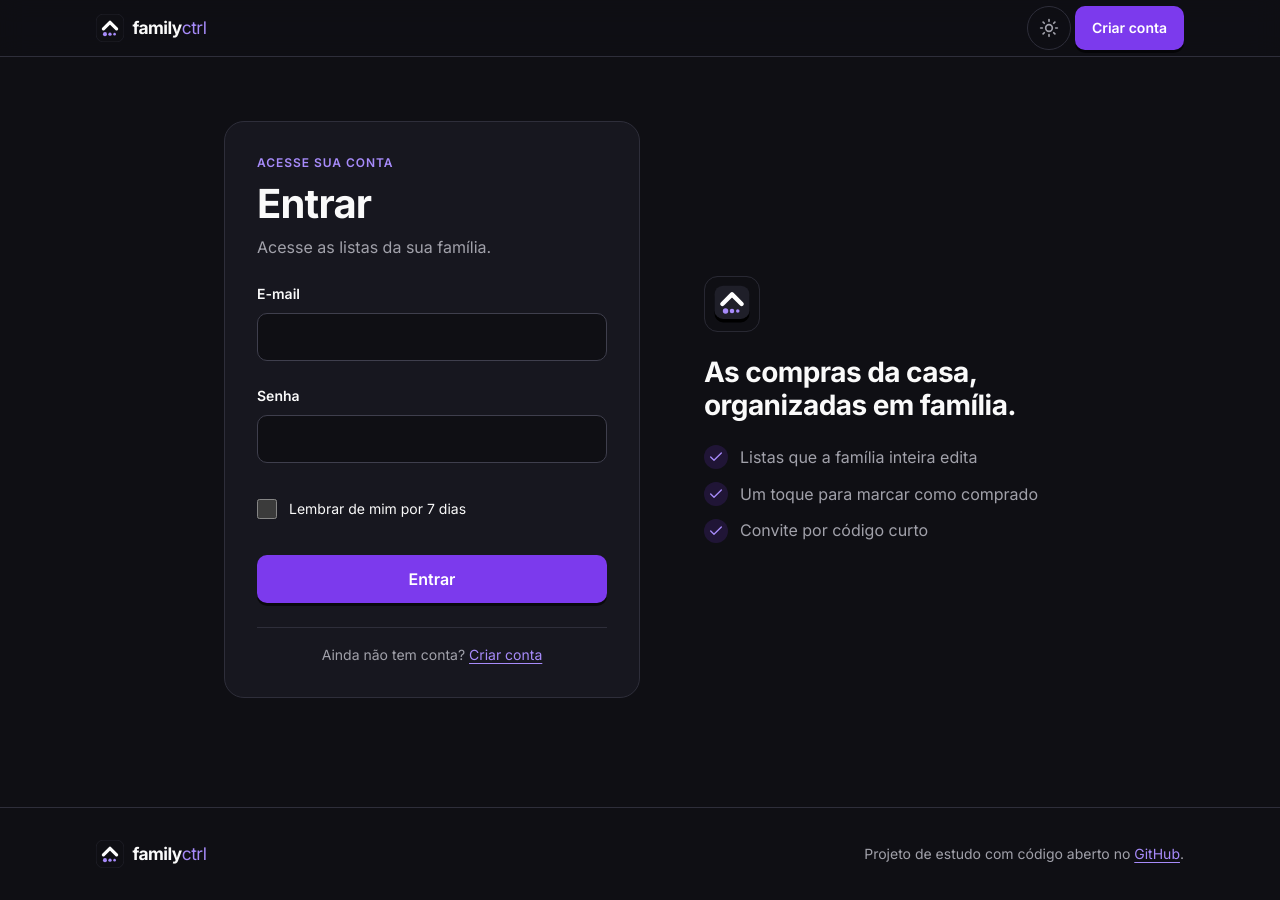
Scenario: login › mostra erro com senha incorreta
This screenshot has width=1280, height=900.
In the field labelled "E-mail": (432, 337) [257,313,607,361], type "ana@exemplo.com"
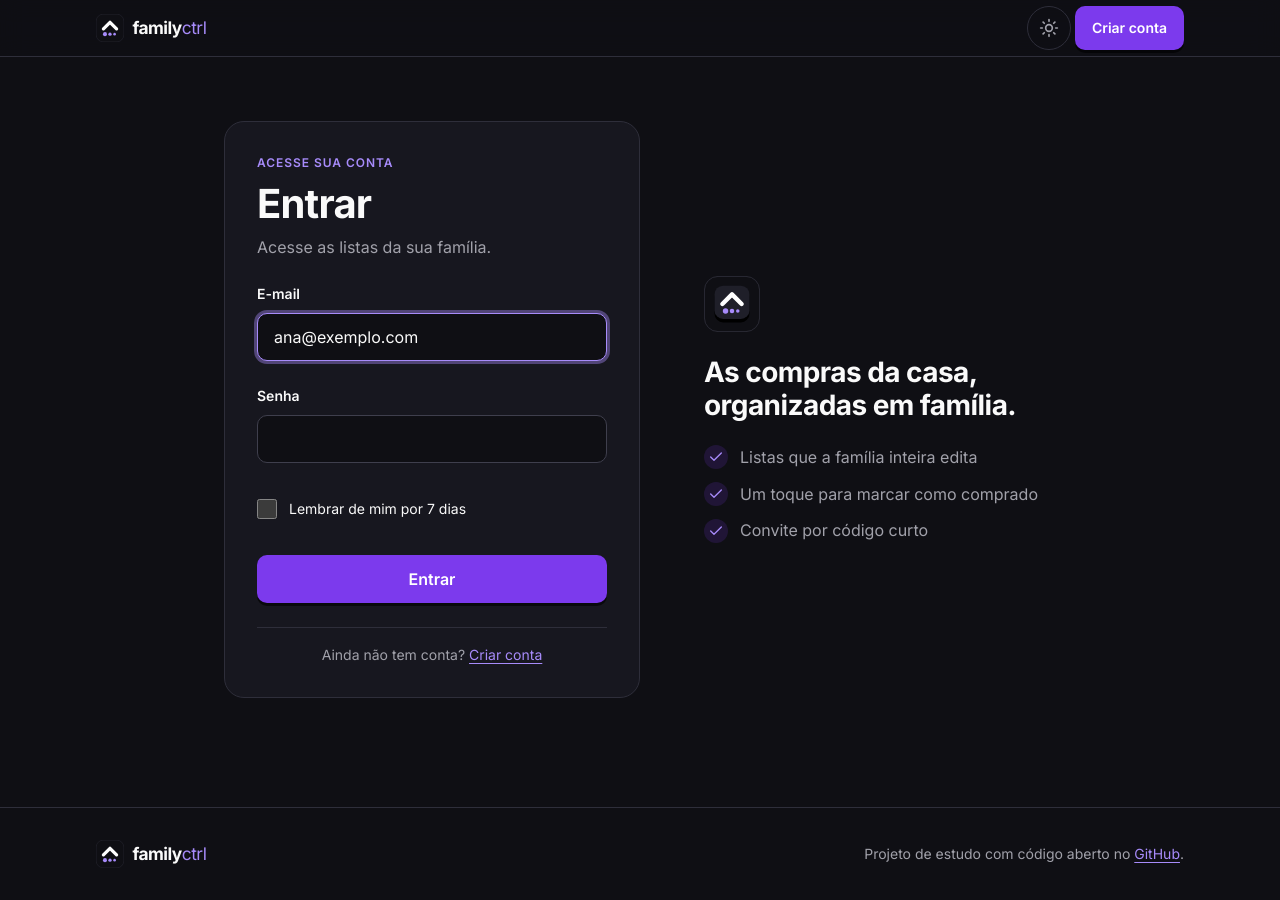
In the password field labelled "Senha": (432, 439) [257,415,607,463], type "senha-errada"
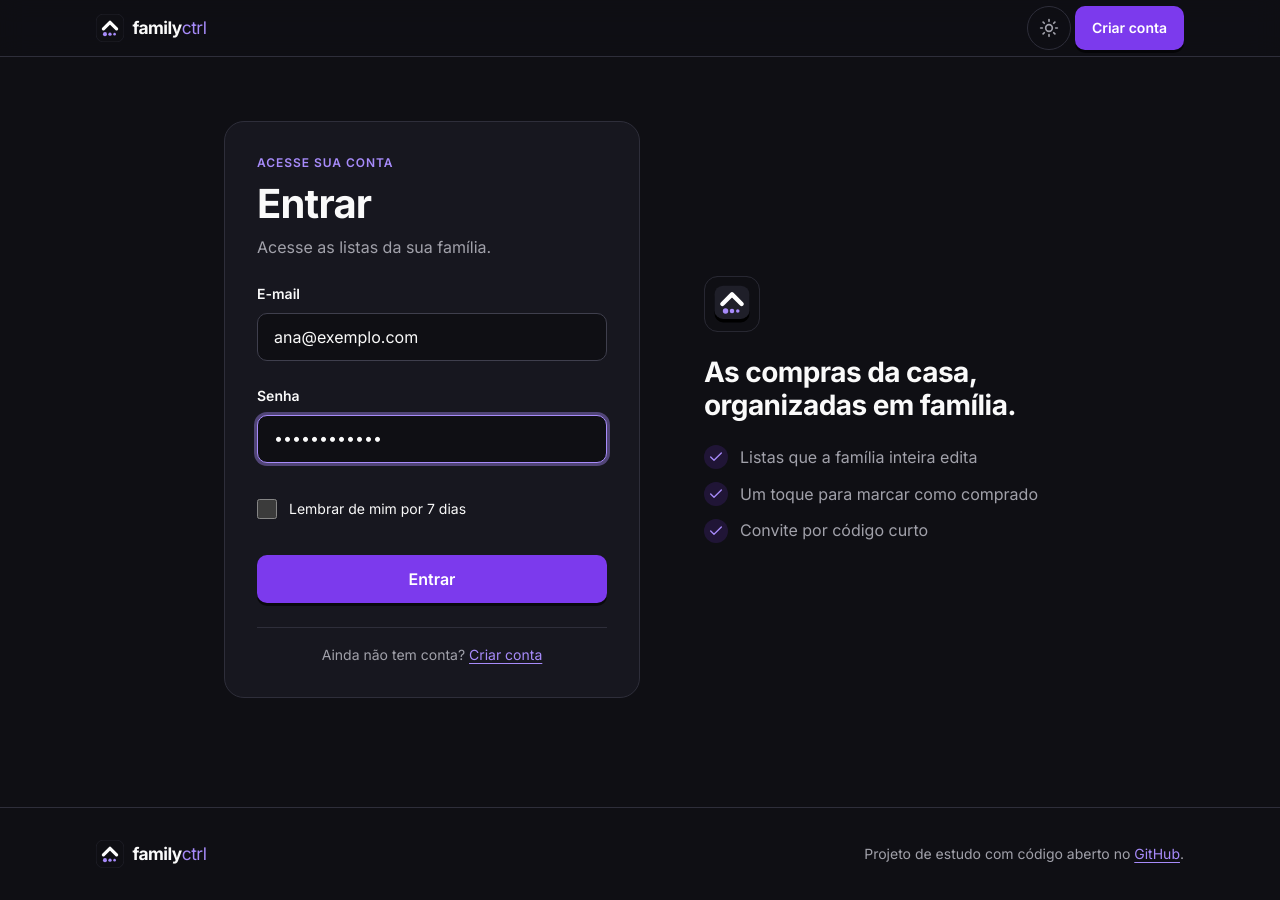
Click the button "Entrar": (432, 579) [257,555,607,603]
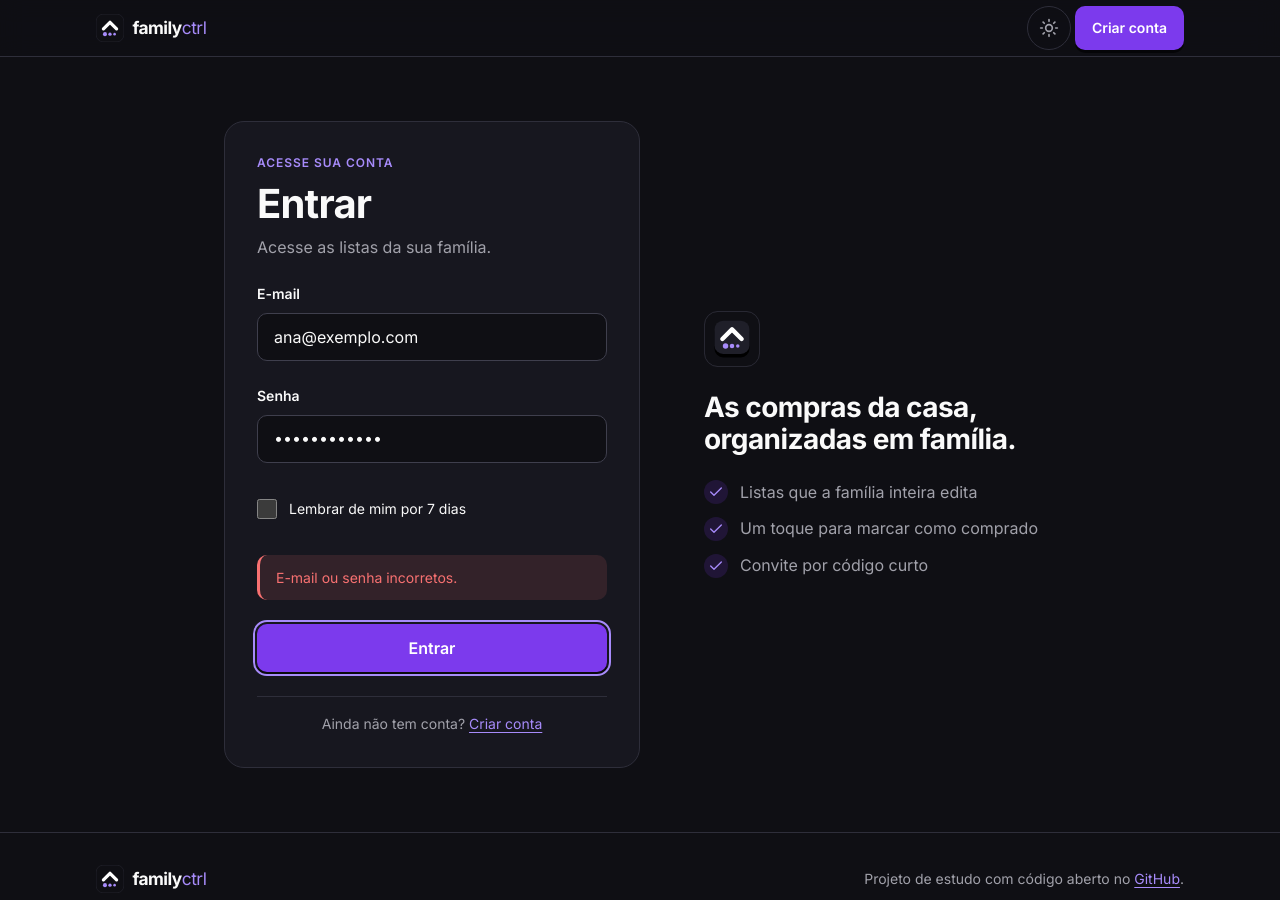
Check: the message reads "E-mail ou senha incorretos.", box [276,569,457,586]
